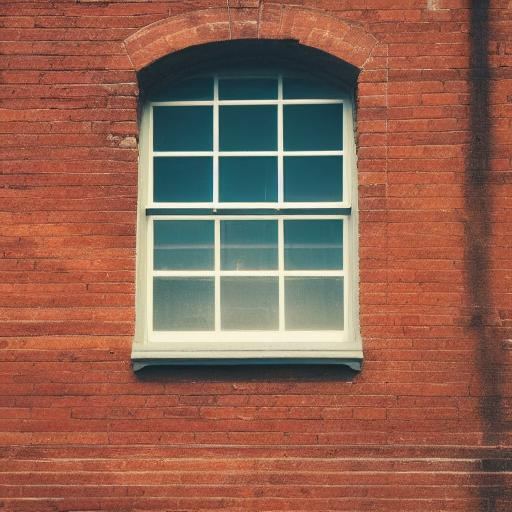Window: (122, 5, 385, 378)
